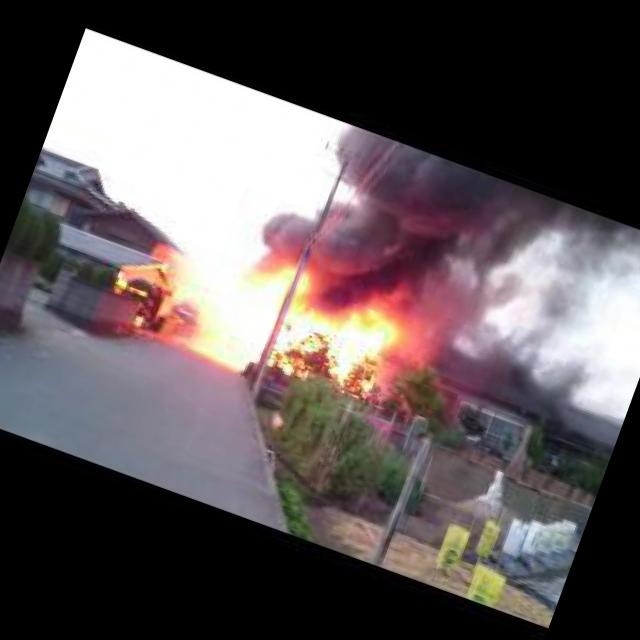fire: (156, 236, 418, 425)
smoke: (251, 106, 637, 379)
